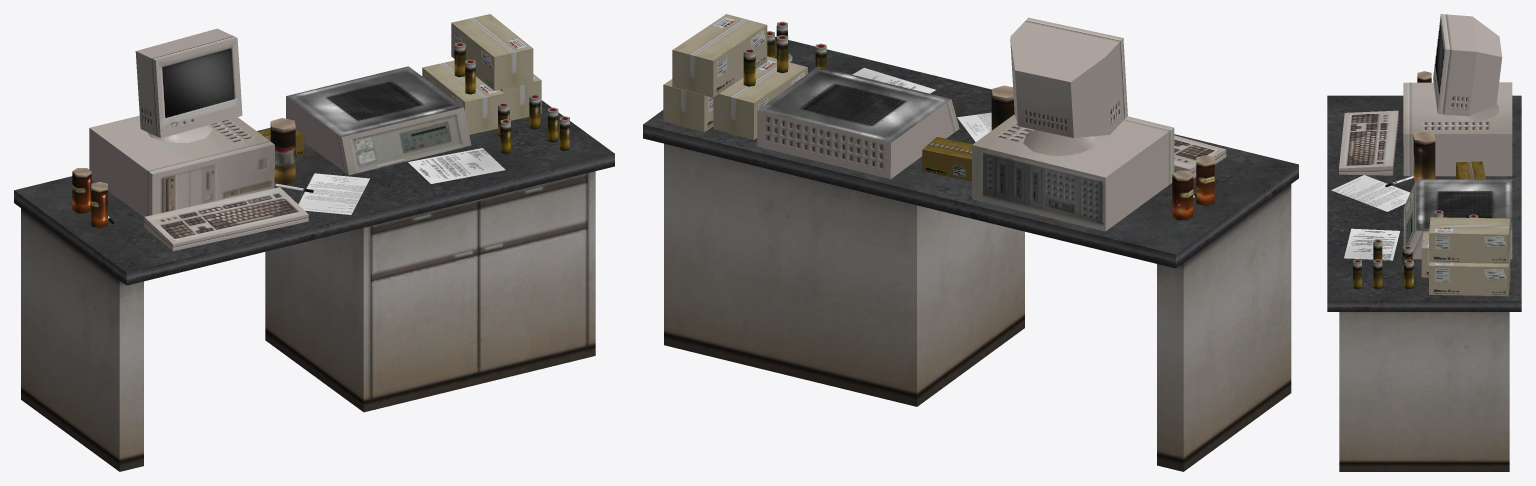
File: labdesk2.fbx
3 renders of one model, left to right at view 1: azimuth 30°, elevation 25°; view 2: azimuth 150°, elevation 25°; view 3: azimuth 270°, elevation 25°, orthographic. The views are drawn at different scales.
Visible parts, largest first — view 1: mesh_0; view 2: mesh_0; view 3: mesh_0.
Boxes of the visible parts, box(x1,y1,x2,y2) form: mesh_0: box(14, 14, 614, 471); mesh_0: box(643, 14, 1298, 471); mesh_0: box(1327, 14, 1521, 471).
Bounding box in the file's own units: 200 × 135 × 80.
1 material, 1 textured.
